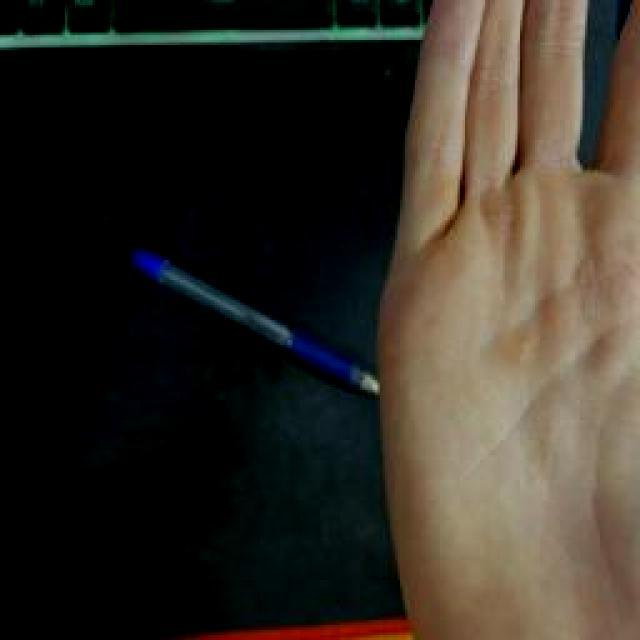pen: (130, 245, 378, 398)
